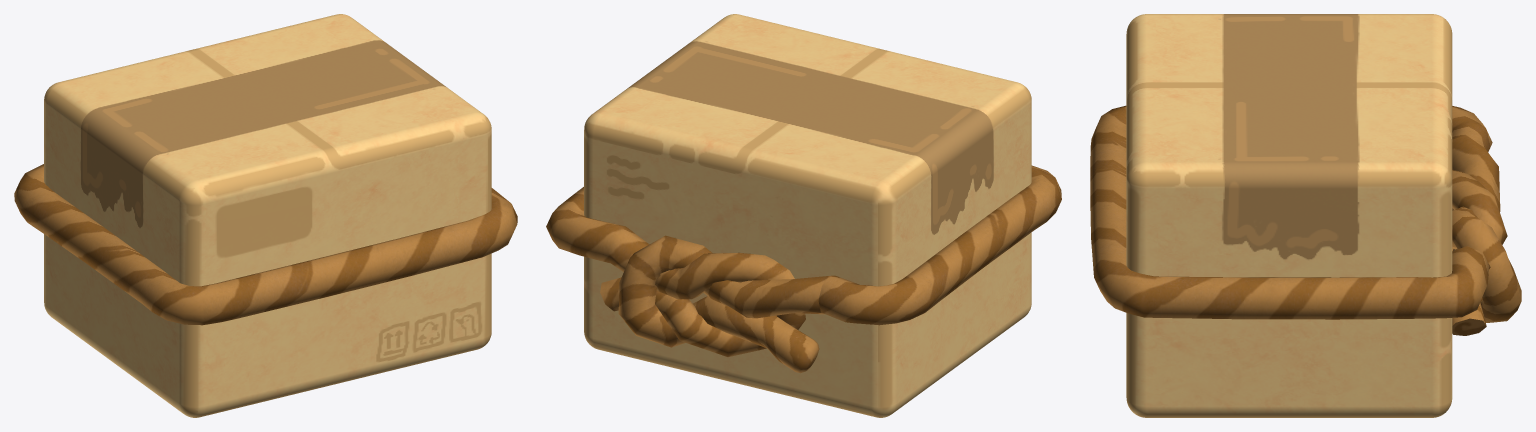
3 renders of one model, left to right at view 1: azimuth 30°, elevation 25°; view 2: azimuth 150°, elevation 25°; view 3: azimuth 270°, elevation 25°, orthographic. The views are drawn at different scales.
Visible parts, largest first — view 1: Outline; view 2: Outline; view 3: Outline.
Part boxes in pixels (box(x1,y1,x2,y2)): Outline: box(14, 14, 517, 417); Outline: box(546, 14, 1061, 417); Outline: box(1090, 14, 1521, 417).
Size of the model in its own units: 0.0969 by 0.0591 by 0.091.
2 materials, 2 textured.
